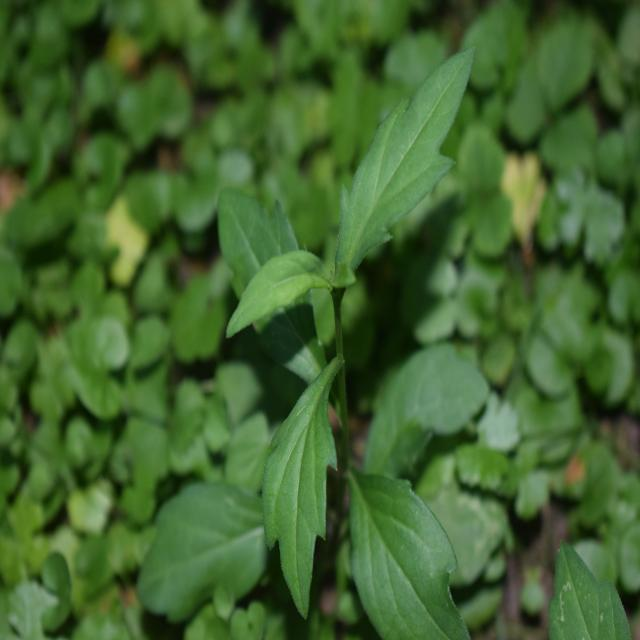Indian aster: (162, 97, 491, 624)
